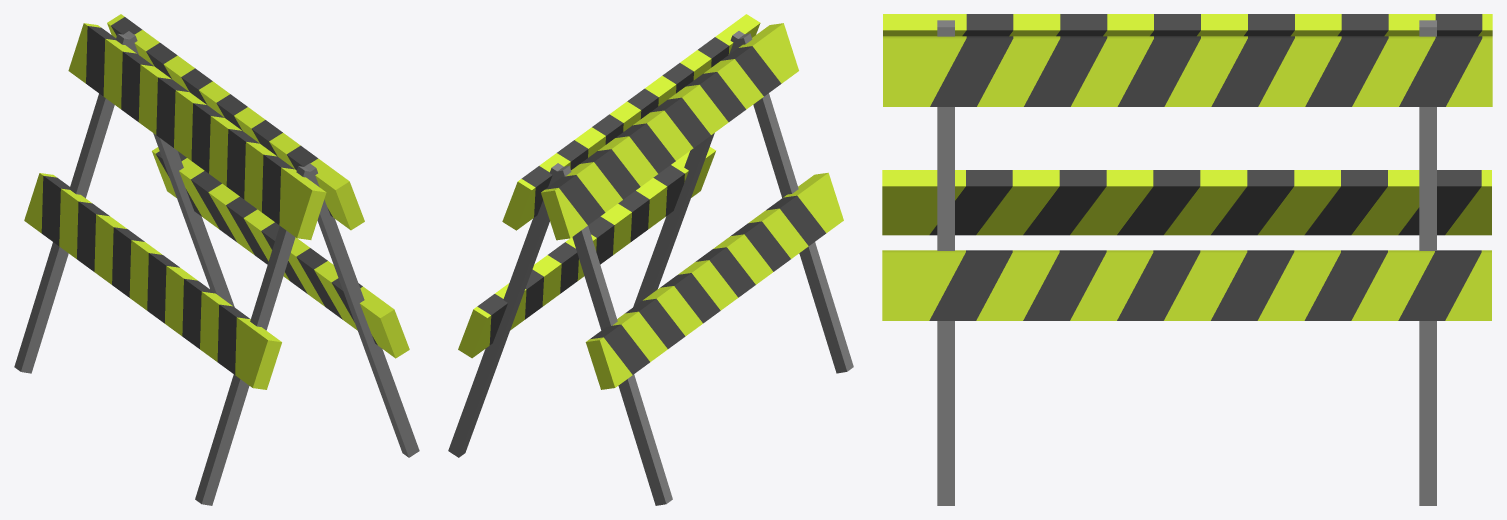
The model's file is barrier.fbx.
3 views of the same model, side by side, from view 1: azimuth 30°, elevation 25°; view 2: azimuth 150°, elevation 25°; view 3: azimuth 270°, elevation 25° (orthographic). The views are drawn at different scales.
Parts seen in each view (by area): view 1: 立方体.001, 立方体; view 2: 立方体.001, 立方体; view 3: 立方体.001, 立方体.
Part boxes in pixels (box(x1,y1,x2,y2)): 立方体.001: box(24, 14, 409, 389); 立方体: box(14, 31, 419, 505); 立方体.001: box(458, 14, 843, 389); 立方体: box(448, 31, 853, 505); 立方体.001: box(882, 14, 1492, 320); 立方体: box(937, 20, 1436, 505).
Size of the model in its own units: 125 by 171 by 227.
